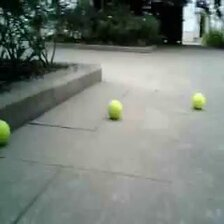tennis: (106, 100, 123, 118), (1, 119, 12, 144), (190, 94, 206, 109)
